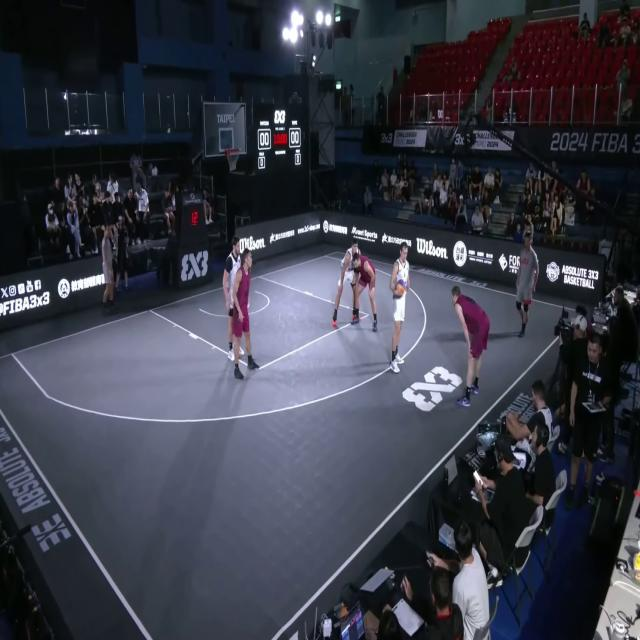ball: (396, 277, 406, 299)
hoop: (224, 146, 240, 173)
player: (450, 284, 490, 408), (232, 248, 260, 382), (222, 234, 244, 364), (390, 245, 410, 372), (331, 235, 358, 329), (352, 252, 376, 335)
